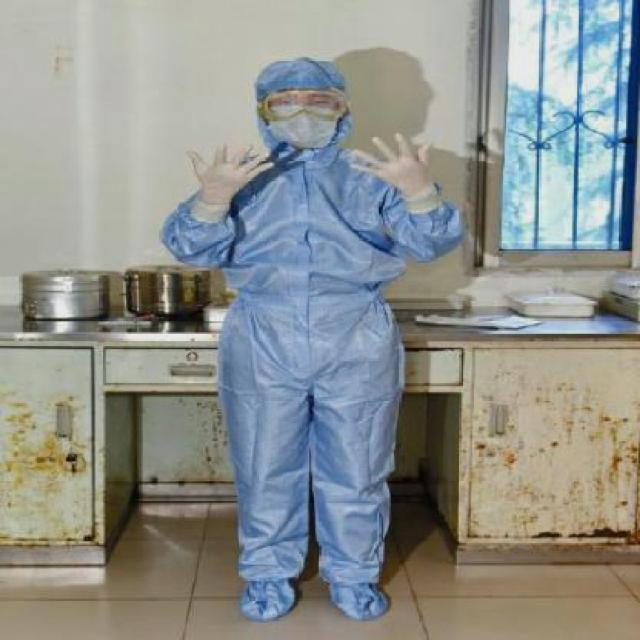face_mask: (271, 84, 337, 148)
glasses: (255, 85, 351, 127)
hand_glove: (348, 131, 435, 194), (178, 146, 270, 197)
head_nohelmet: (252, 52, 346, 105)
person: (157, 47, 457, 640)
